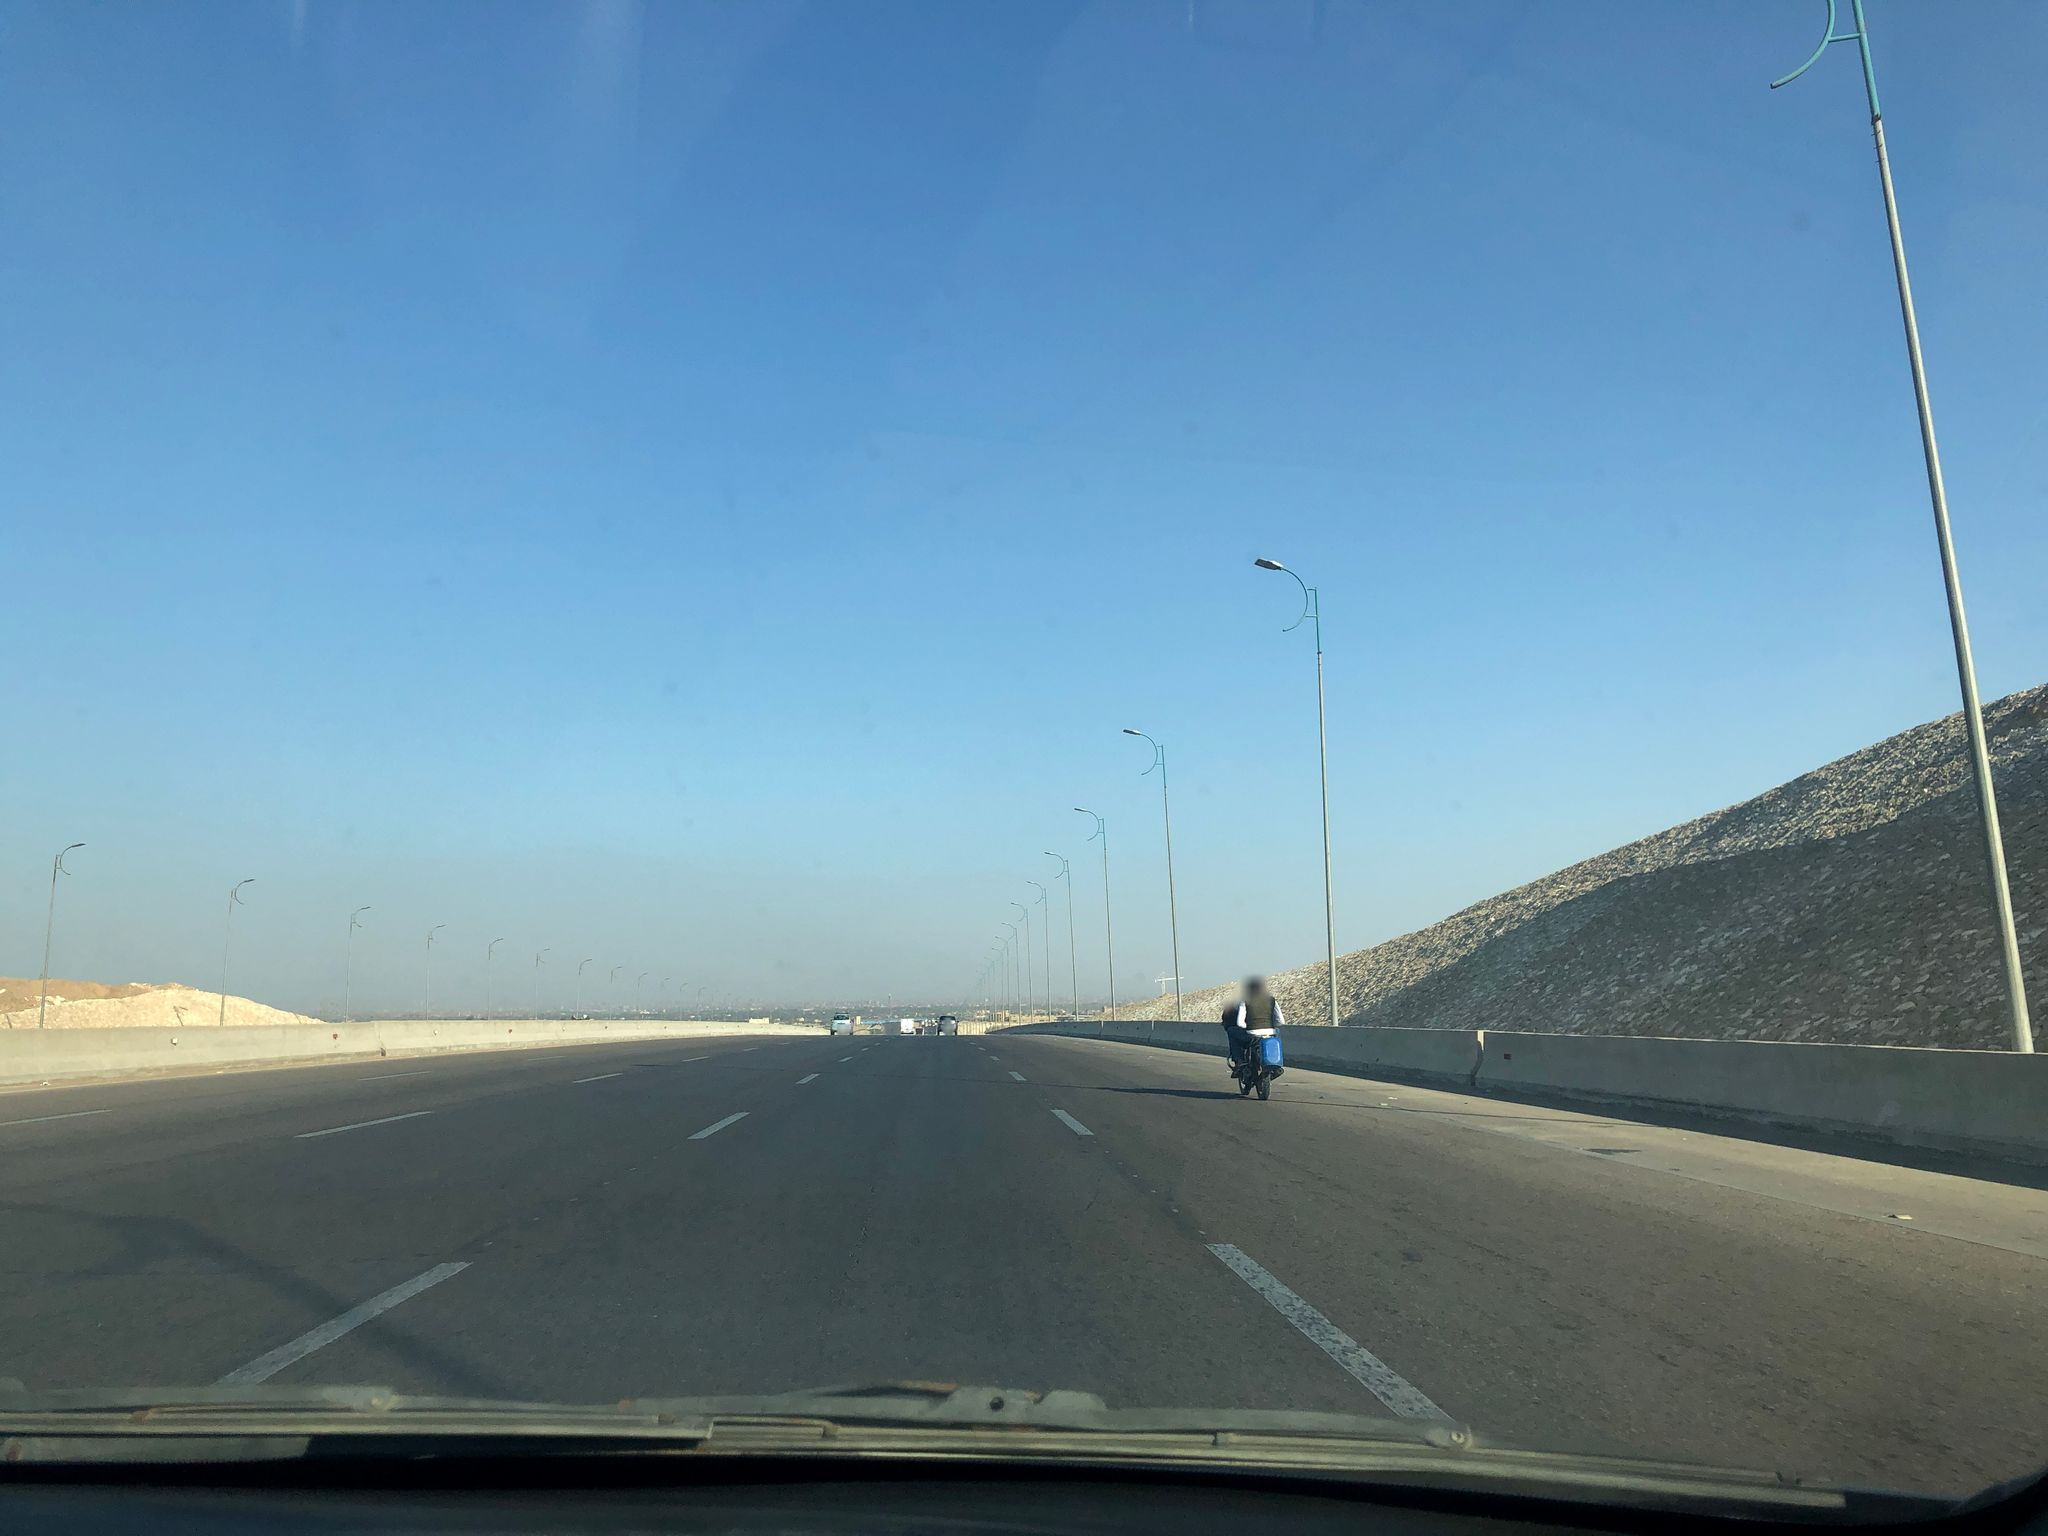car: (829, 1012, 853, 1034), (934, 1015, 959, 1036)
motorcycle: (1221, 1007, 1287, 1100)
